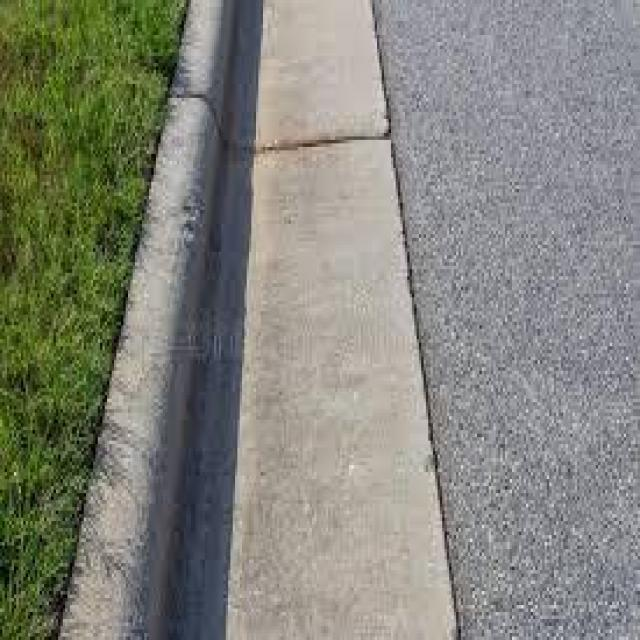bump: (48, 138, 271, 637)
